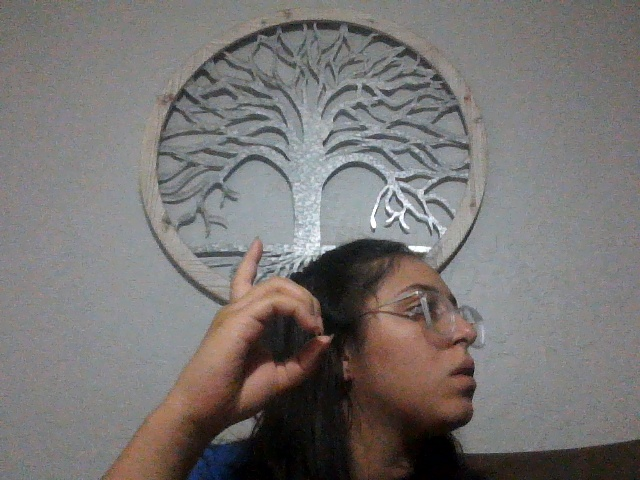D: (125, 227, 360, 456)
